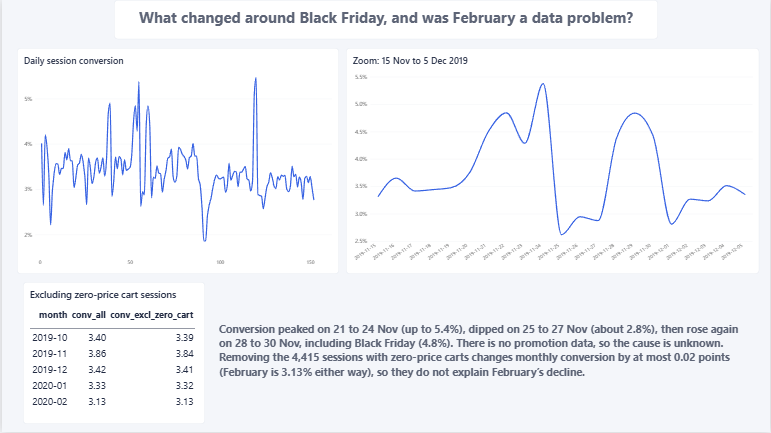

This screenshot's page, from the dashboard's own definition file:
{"tool":"powerbi","page":{"name":"Diagnosis","canvas":[1920,1080],"ordinal":2},"visuals":[{"type":"textbox","box":[280,0,1360,97.5],"z":0},{"type":"textbox","box":[542.5,802.5,1307.5,157.5],"z":1000},{"type":"lineChart","title":"Daily session conversion","fields":{"Category":["daily_funnel.day_no"],"Y":["daily_funnel.Daily Conv %"]},"box":[37.5,120,805,565],"z":2000},{"type":"tableEx","title":"Excluding zero-price cart sessions","fields":{"Values":["zero_cart_check.month","zero_cart_check.conv_all","zero_cart_check.conv_excl_zero_cart"]},"box":[52.5,705,455,355],"z":3000},{"type":"lineChart","title":"Zoom: 15 Nov to 5 Dec 2019","fields":{"Category":["daily_funnel.day_label"],"Y":["daily_funnel.Daily Conv %"]},"box":[860,120,1032.5,565],"z":4000}]}

Visuals, with their boxes in screenshot pixels (x1, y1, x2, y2), scaled from the page's 1920x1080 canvas onto the 771x433 screenshot:
textbox: box(112, 0, 659, 39)
textbox: box(218, 322, 743, 385)
"Daily session conversion" lineChart: box(15, 48, 338, 275)
"Excluding zero-price cart sessions" tableEx: box(21, 283, 204, 425)
"Zoom: 15 Nov to 5 Dec 2019" lineChart: box(345, 48, 760, 275)
